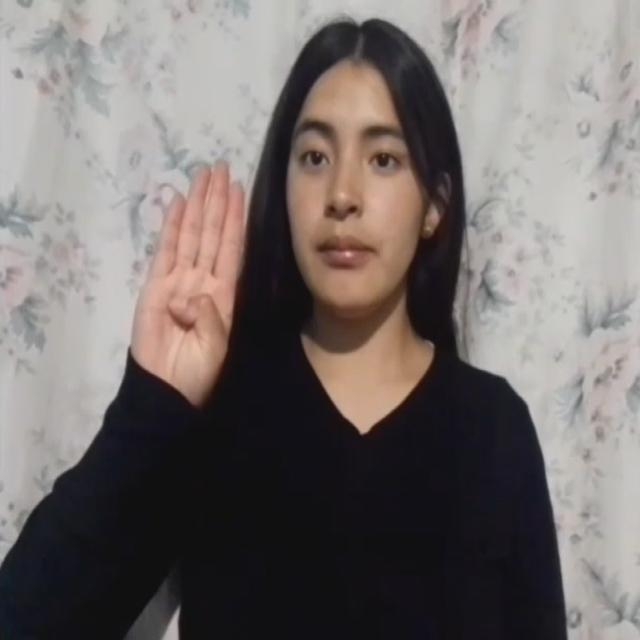B: (140, 136, 244, 428)
